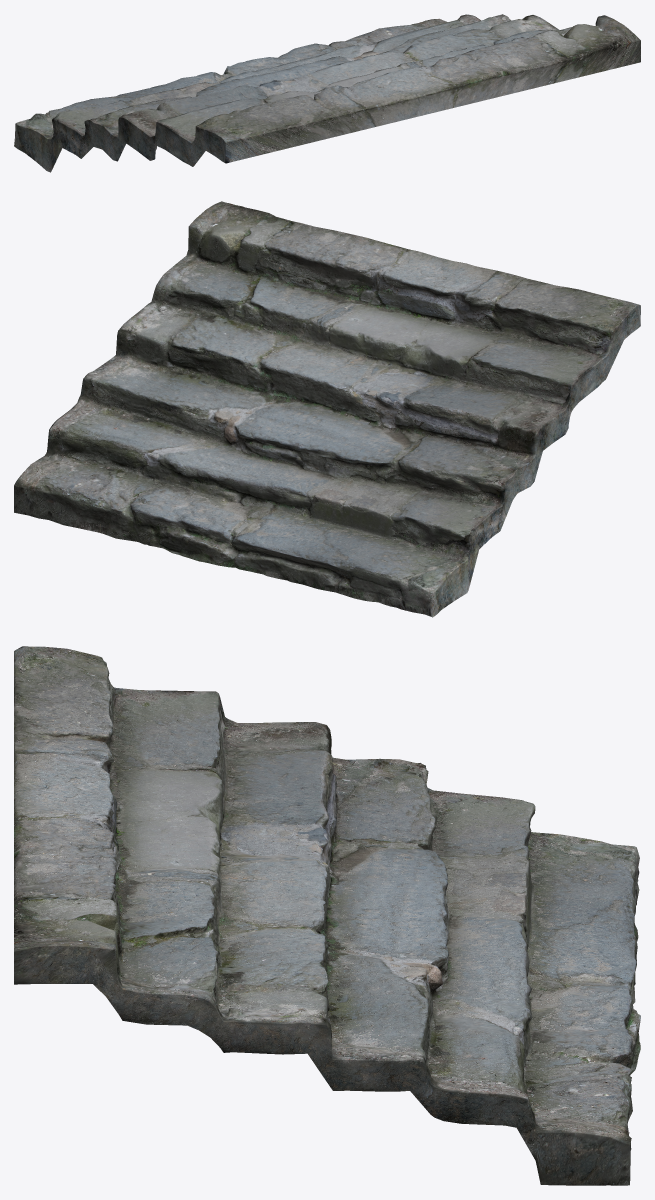
Rendered from sm_Stairs_01_01.fbx.
The picture shows the model from 3 angles, top to bottom: view 1: azimuth 30°, elevation 25°; view 2: azimuth 150°, elevation 25°; view 3: azimuth 270°, elevation 25°; orthographic projection. The views are drawn at different scales.
Parts seen in each view (by area): view 1: sm_Stairs_01_01_LOD0; view 2: sm_Stairs_01_01_LOD0; view 3: sm_Stairs_01_01_LOD0.
Part boxes in pixels (x1,y1,x2,y2): sm_Stairs_01_01_LOD0: (14, 14, 640, 172); sm_Stairs_01_01_LOD0: (14, 201, 640, 617); sm_Stairs_01_01_LOD0: (14, 646, 640, 1185).
Bounding box in the file's own units: 201 × 174 × 73.8.
